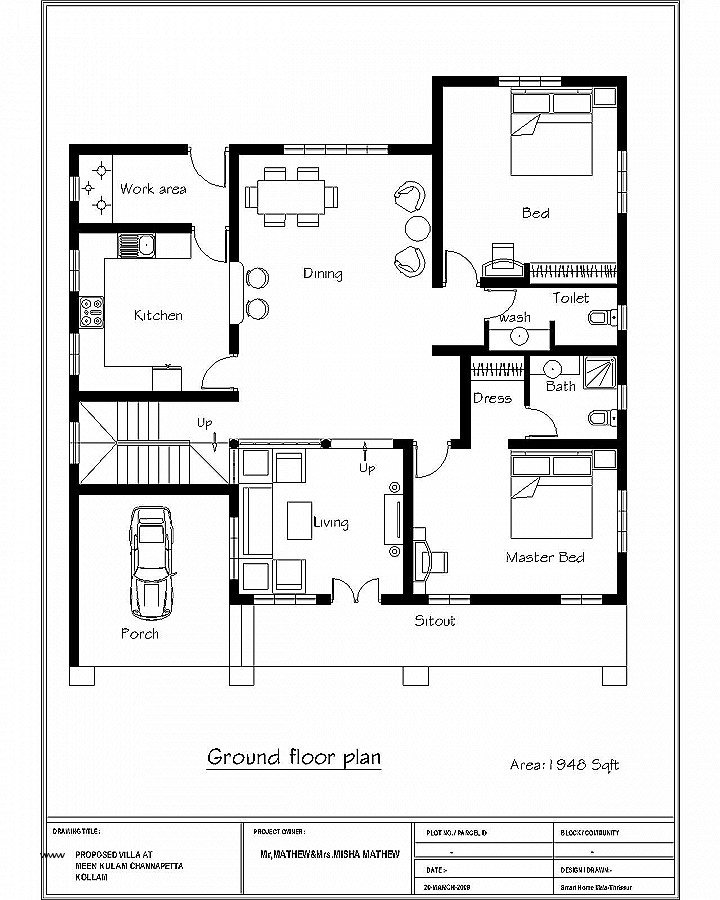door: (195, 354, 234, 390), (329, 577, 381, 603), (189, 153, 228, 187), (485, 288, 521, 322), (443, 247, 479, 281), (192, 231, 228, 265), (413, 448, 449, 478), (530, 406, 566, 436)
room: (432, 76, 627, 288), (403, 439, 627, 605), (67, 222, 237, 403), (228, 439, 413, 604), (481, 284, 626, 358)
window: (283, 143, 390, 156), (253, 593, 318, 606), (499, 75, 561, 88), (616, 490, 628, 554), (616, 150, 628, 214), (427, 593, 472, 607), (559, 592, 604, 606), (69, 249, 81, 292), (69, 333, 81, 376), (68, 422, 80, 465), (616, 305, 628, 330), (616, 385, 628, 410), (69, 177, 80, 201)
